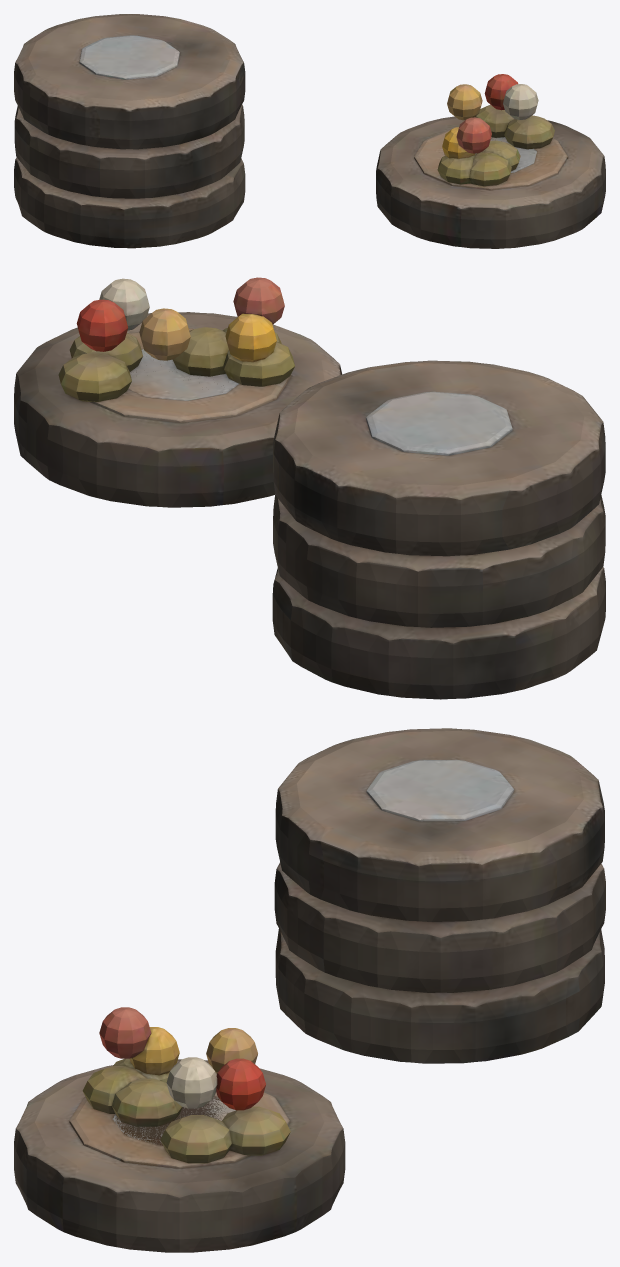
The model's file is tyre_stack.glb.
3 renders of one model, top to bottom at view 1: azimuth 30°, elevation 25°; view 2: azimuth 150°, elevation 25°; view 3: azimuth 270°, elevation 25°, orthographic. The views are drawn at different scales.
Parts seen in each view (by area): view 1: TyreStack_Mesh; view 2: TyreStack_Mesh; view 3: TyreStack_Mesh.
Part boxes in pixels (x1=…): TyreStack_Mesh: x1=14, y1=14, x2=605, y2=248; TyreStack_Mesh: x1=14, y1=277, x2=605, y2=699; TyreStack_Mesh: x1=14, y1=728, x2=605, y2=1252.
Size of the model in its own units: 2.09 by 0.64 by 1.59.
1 material, 1 textured.
